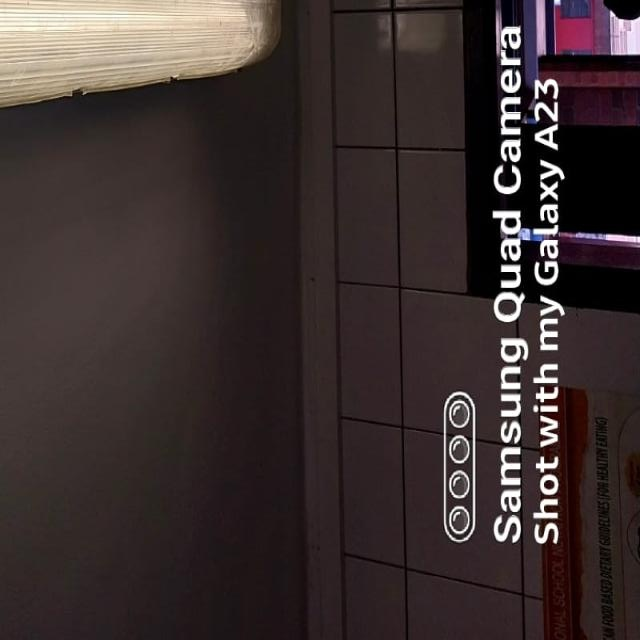fluorescent tube: (0, 0, 340, 203)
